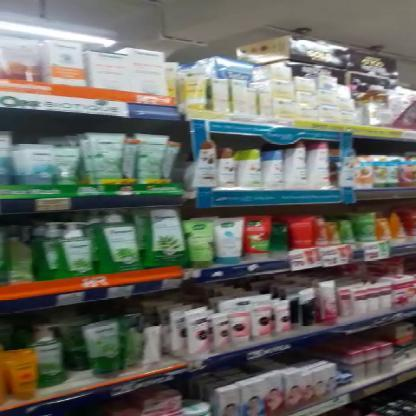Everyuth Naturals Body Lotion Nourishing Cocoa 200ml: (285, 142, 309, 189), (218, 146, 234, 190)
Everyuth Naturals Body Lotion Rejuvenating Flora 200ml: (306, 141, 329, 190)
Everyuth Naturals Body Lotion Soothing Citrus 200ml: (238, 148, 263, 190)
Everyuth Naturals Body Lotion Sun Care Berries SPF 15 200ml: (264, 150, 284, 190)
